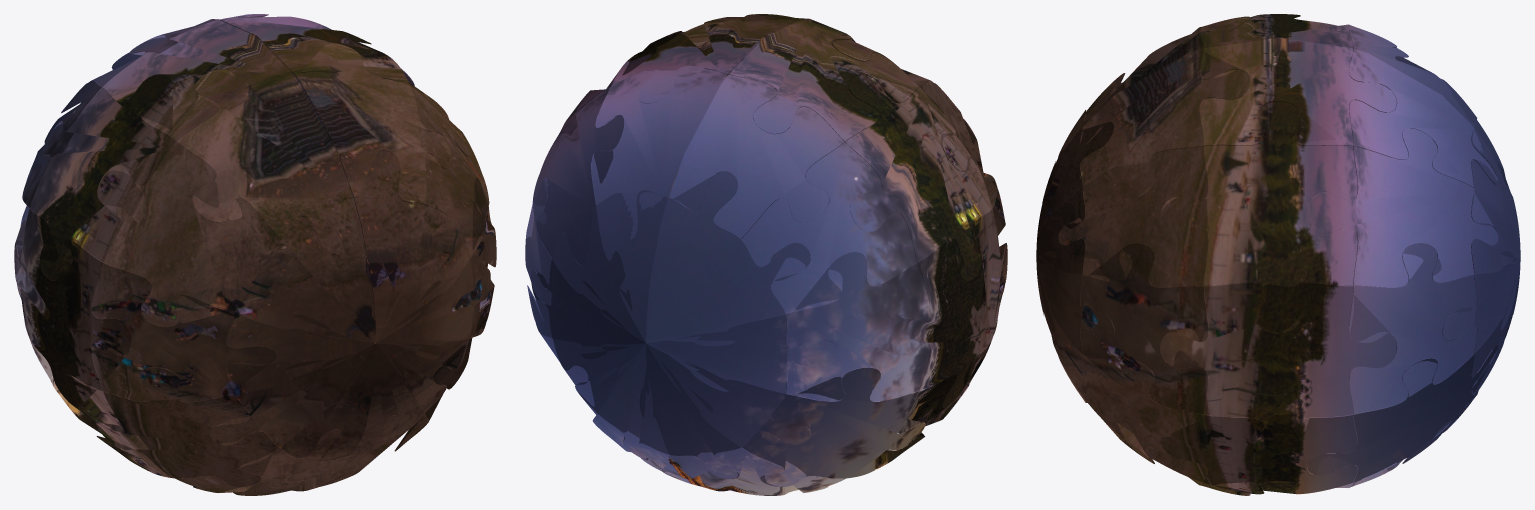
File: easy-puzzle-v28.fbx
3 views of the same model, side by side, from view 1: azimuth 30°, elevation 25°; view 2: azimuth 150°, elevation 25°; view 3: azimuth 270°, elevation 25° (orthographic).
Parts seen in each view (by area): view 1: Puzzle.001, Puzzle.025, Puzzle.005, Puzzle.023, Puzzle.026, Puzzle.004, Puzzle.016, Puzzle.027, Puzzle.006, Puzzle.024, Puzzle.003, Puzzle.028 (+7 smaller); view 2: Puzzle.002, Puzzle.008, Puzzle.023, Puzzle.009, Puzzle.007, Puzzle.010, Puzzle.016, Puzzle.006, Puzzle.032, Puzzle.015, Puzzle.003, Puzzle.011 (+7 smaller); view 3: Puzzle.022, Puzzle.021, Puzzle.015, Puzzle.024, Puzzle.003, Puzzle.031, Puzzle.014, Puzzle.020, Puzzle.004, Puzzle.001, Puzzle.002, Puzzle.032 (+7 smaller).
Part boxes in pixels (x1,y1,x2,y2): Puzzle.001: (211, 150, 490, 460); Puzzle.025: (100, 142, 280, 326); Puzzle.005: (177, 69, 352, 254); Puzzle.023: (30, 74, 175, 280); Puzzle.026: (91, 263, 276, 401); Puzzle.004: (294, 43, 450, 204); Puzzle.016: (14, 209, 131, 407); Puzzle.027: (97, 367, 279, 486); Puzzle.006: (102, 20, 292, 141); Puzzle.024: (410, 86, 488, 265); Puzzle.003: (220, 14, 409, 85); Puzzle.028: (175, 429, 359, 495); Puzzle.002: (531, 171, 837, 478); Puzzle.008: (741, 142, 917, 314); Puzzle.023: (845, 74, 991, 280); Puzzle.009: (785, 252, 929, 401); Puzzle.007: (668, 74, 844, 239); Puzzle.010: (742, 367, 924, 486); Puzzle.016: (889, 209, 1007, 407); Puzzle.006: (728, 20, 919, 141); Puzzle.032: (591, 66, 727, 240); Puzzle.015: (533, 87, 624, 265); Puzzle.003: (611, 14, 801, 103); Puzzle.011: (662, 447, 846, 495); Puzzle.022: (1160, 101, 1357, 333); Puzzle.021: (1160, 282, 1396, 453); Puzzle.015: (1307, 128, 1498, 287); Puzzle.024: (1059, 146, 1208, 287); Puzzle.003: (1199, 37, 1396, 146); Puzzle.031: (1080, 243, 1208, 414); Puzzle.014: (1349, 243, 1476, 414); Puzzle.020: (1160, 414, 1357, 494); Puzzle.004: (1080, 48, 1250, 198); Puzzle.001: (1036, 114, 1114, 401); Puzzle.002: (1443, 80, 1520, 430); Puzzle.032: (1349, 48, 1498, 187).
Bounding box in the file's own units: 6.69 × 6.72 × 6.72.
